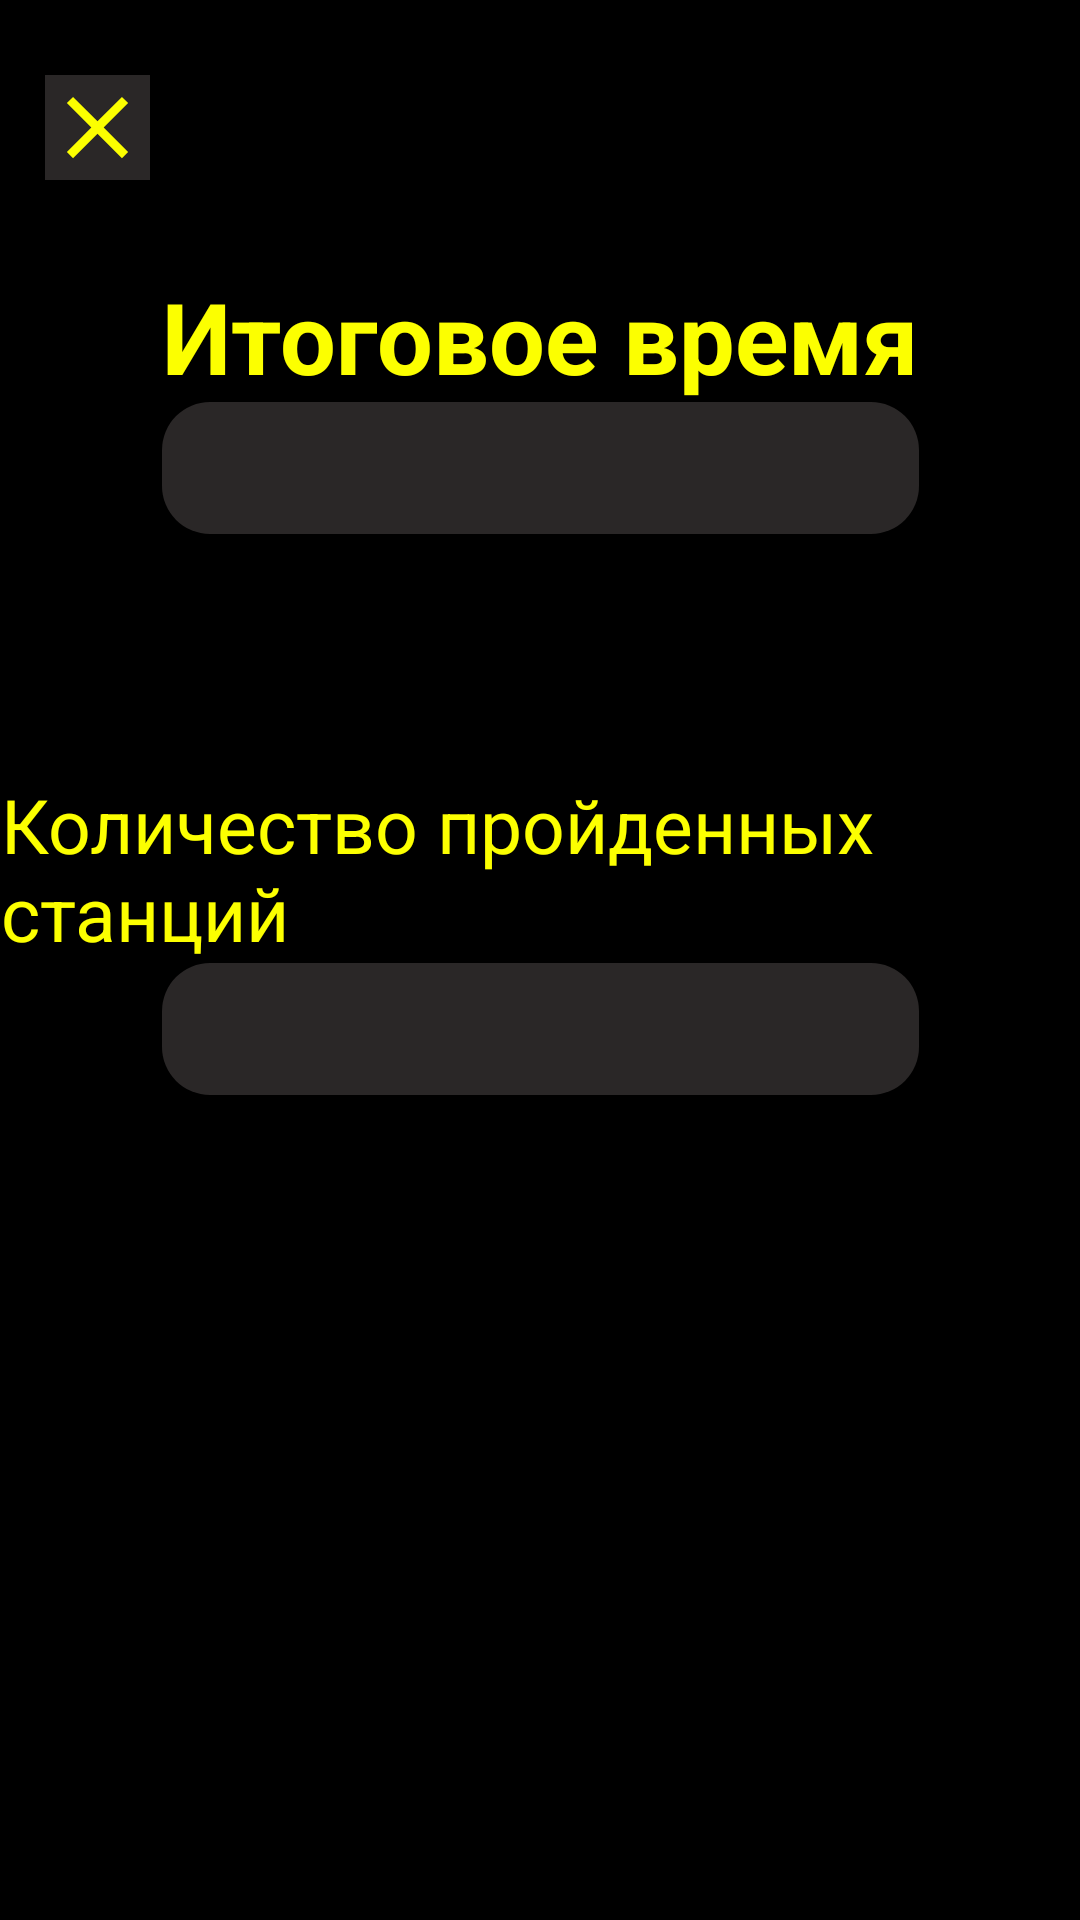

Where icons sit on this 1080x1920 app screen, as (x1, y1, x2, y2):
close: (45, 75, 150, 180)
